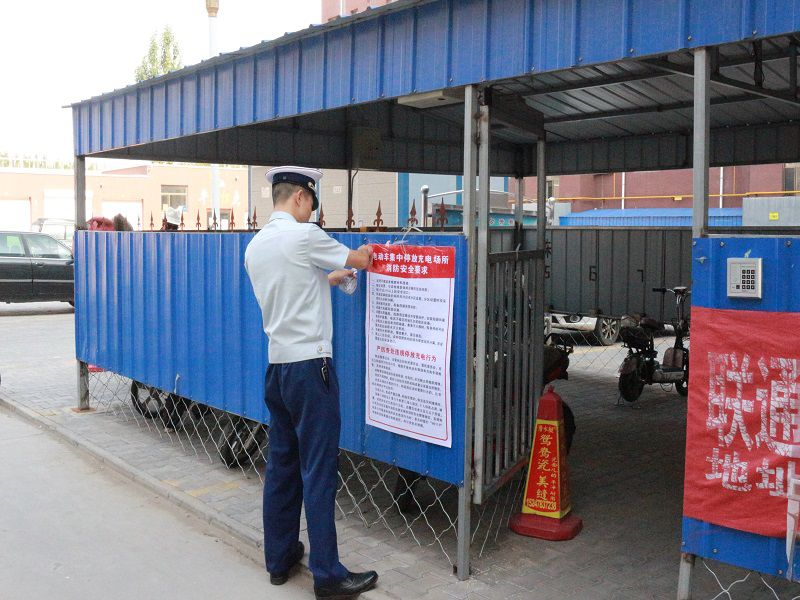bill: (366, 241, 456, 450)
